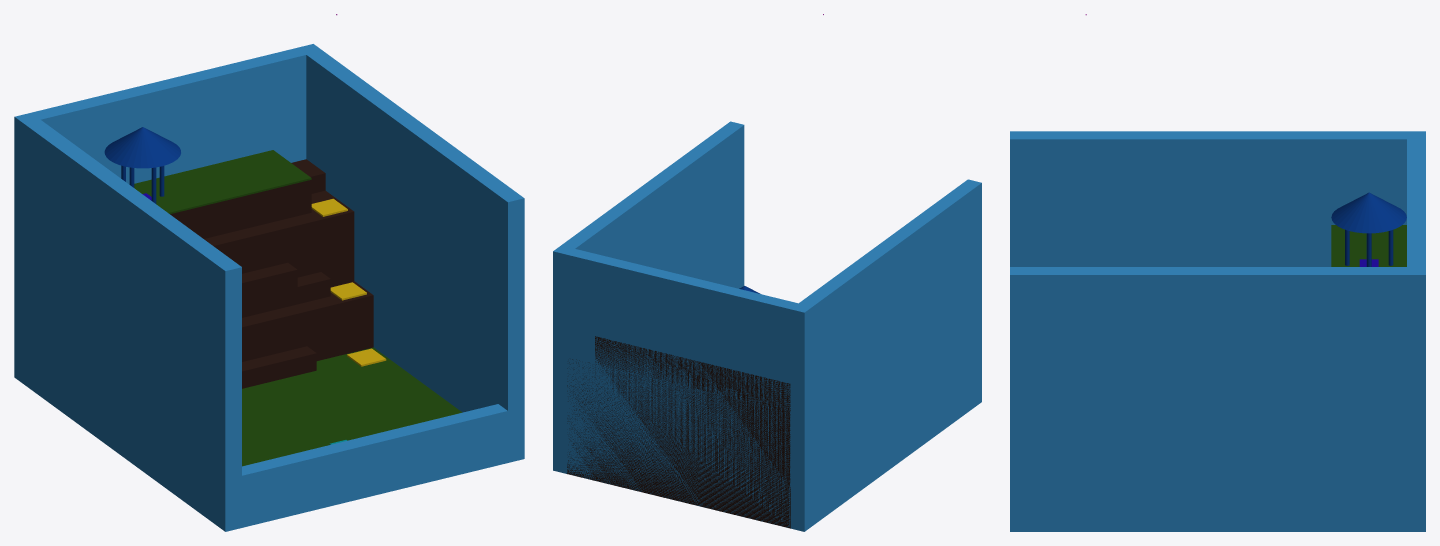
The model's file is world.obj.
3 views of the same model, side by side, from view 1: azimuth 30°, elevation 25°; view 2: azimuth 150°, elevation 25°; view 3: azimuth 270°, elevation 25° (orthographic). The views are drawn at different scales.
Parts seen in each view (by area): view 1: Wall.006.Boundary_Cube.005, Wall.007.Boundary_Cube.004, Wall.008.Boundary_Cube.003, Wall.005.Boundary_Cube.000, Floor.006_Cube.014, Floor.000_Cube.001, Floor.005_Cube.013, Floor.014_Cube.030, Floor.015_Cube.031, Floor.012_Cube.027, Floor.008_Cube.018, Wall.104.Cone.ExitIndicator_Cone (+3 smaller); view 2: Wall.008.Boundary_Cube.003, Wall.006.Boundary_Cube.005, Floor.011_Cube.026, Wall.007.Boundary_Cube.004, Floor.015_Cube.031; view 3: Wall.007.Boundary_Cube.004, Wall.006.Boundary_Cube.005, Wall.008.Boundary_Cube.003, Floor.000_Cube.001, Wall.104.Cone.ExitIndicator_Cone.
Part boxes in pixels (x1=…): Wall.006.Boundary_Cube.005: x1=14, y1=113, x2=241, y2=531; Wall.007.Boundary_Cube.004: x1=297, y1=44, x2=524, y2=462; Wall.008.Boundary_Cube.003: x1=31, y1=48, x2=306, y2=184; Wall.005.Boundary_Cube.000: x1=242, y1=404, x2=507, y2=527; Floor.006_Cube.014: x1=242, y1=347, x2=462, y2=466; Floor.000_Cube.001: x1=134, y1=150, x2=311, y2=214; Floor.005_Cube.013: x1=242, y1=296, x2=340, y2=361; Floor.014_Cube.030: x1=204, y1=213, x2=321, y2=277; Floor.015_Cube.031: x1=170, y1=180, x2=311, y2=238; Floor.012_Cube.027: x1=286, y1=204, x2=354, y2=286; Floor.008_Cube.018: x1=242, y1=262, x2=297, y2=317; Wall.104.Cone.ExitIndicator_Cone: x1=104, y1=127, x2=180, y2=168; Wall.008.Boundary_Cube.003: x1=567, y1=249, x2=797, y2=527; Wall.006.Boundary_Cube.005: x1=790, y1=179, x2=981, y2=531; Floor.011_Cube.026: x1=567, y1=359, x2=790, y2=528; Wall.007.Boundary_Cube.004: x1=553, y1=121, x2=744, y2=473; Floor.015_Cube.031: x1=595, y1=336, x2=790, y2=410; Wall.007.Boundary_Cube.004: x1=1010, y1=267, x2=1425, y2=531; Wall.006.Boundary_Cube.005: x1=1010, y1=131, x2=1425, y2=266; Wall.008.Boundary_Cube.003: x1=1407, y1=139, x2=1425, y2=266; Floor.000_Cube.001: x1=1331, y1=225, x2=1406, y2=266; Wall.104.Cone.ExitIndicator_Cone: x1=1331, y1=192, x2=1406, y2=233.
Size of what is drawn, in the model's own units: 18 by 26.05 by 22.
